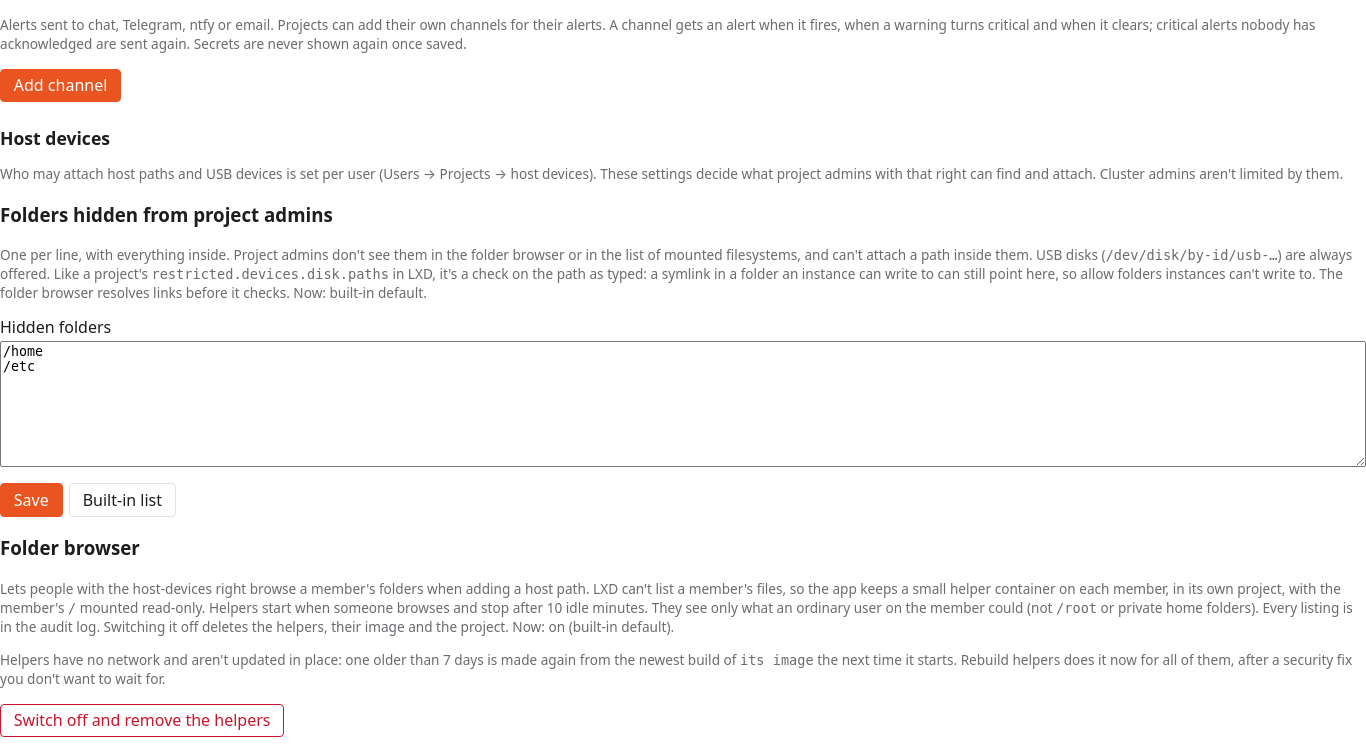
Test: SettingsPage (D87) › switching off with no project yet names the default
(page scrolled)
Click the button "Switch off and remove the helpers" at (142, 720), box [0, 704, 284, 737]
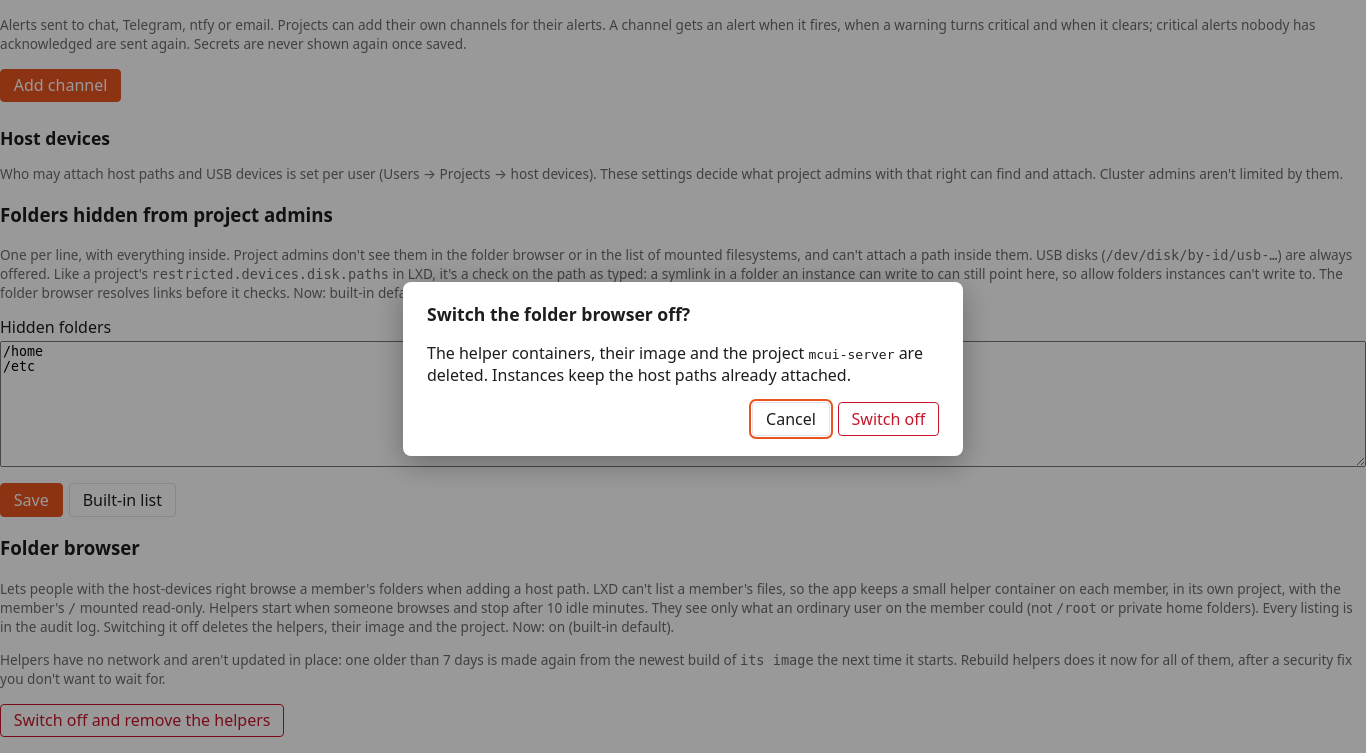
Result: the text "mcui-server" is shown at [808, 347, 894, 362]
